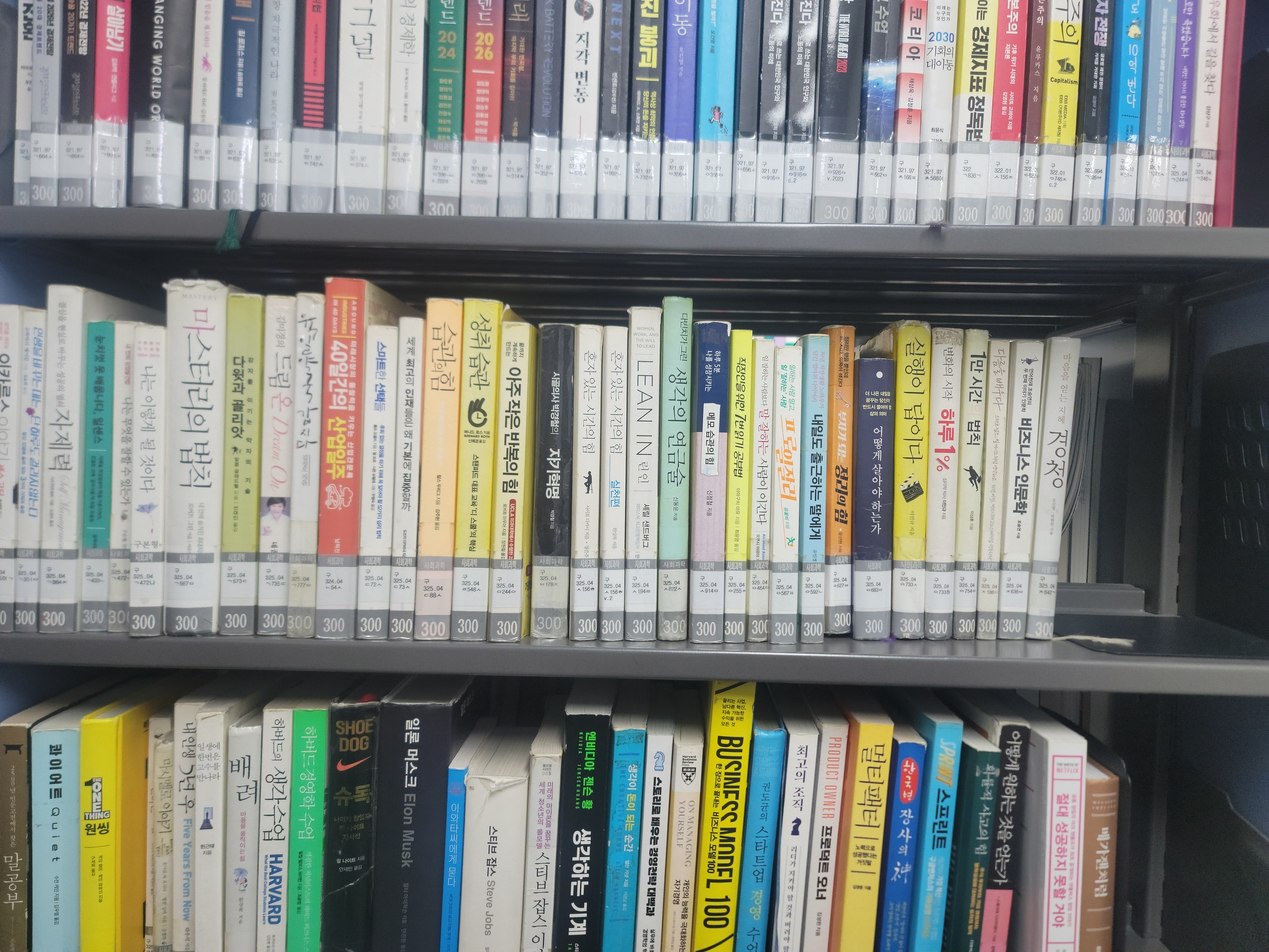book-spine: (162, 282, 226, 639), (314, 278, 366, 641), (449, 299, 500, 642), (413, 298, 463, 641), (1025, 338, 1081, 644), (37, 285, 84, 635), (527, 324, 575, 639), (218, 295, 262, 636), (997, 342, 1045, 644), (254, 296, 296, 636), (487, 322, 530, 642), (354, 325, 397, 640), (285, 293, 324, 639), (890, 324, 931, 643), (690, 320, 730, 645), (656, 298, 693, 643), (923, 327, 963, 642), (386, 317, 425, 640), (852, 358, 895, 640), (625, 306, 661, 642), (128, 326, 166, 637), (77, 322, 114, 636), (952, 329, 989, 640), (12, 311, 46, 636), (975, 341, 1011, 640), (571, 325, 603, 642), (770, 346, 803, 644), (722, 329, 753, 645), (824, 327, 855, 642), (105, 323, 136, 637), (800, 333, 831, 644), (745, 339, 776, 643), (600, 326, 629, 642), (0, 304, 19, 633)
